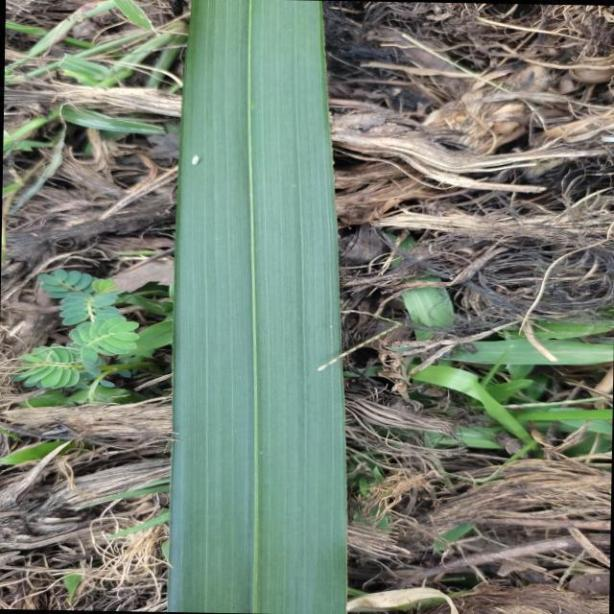Healthy: (174, 0, 349, 614)
